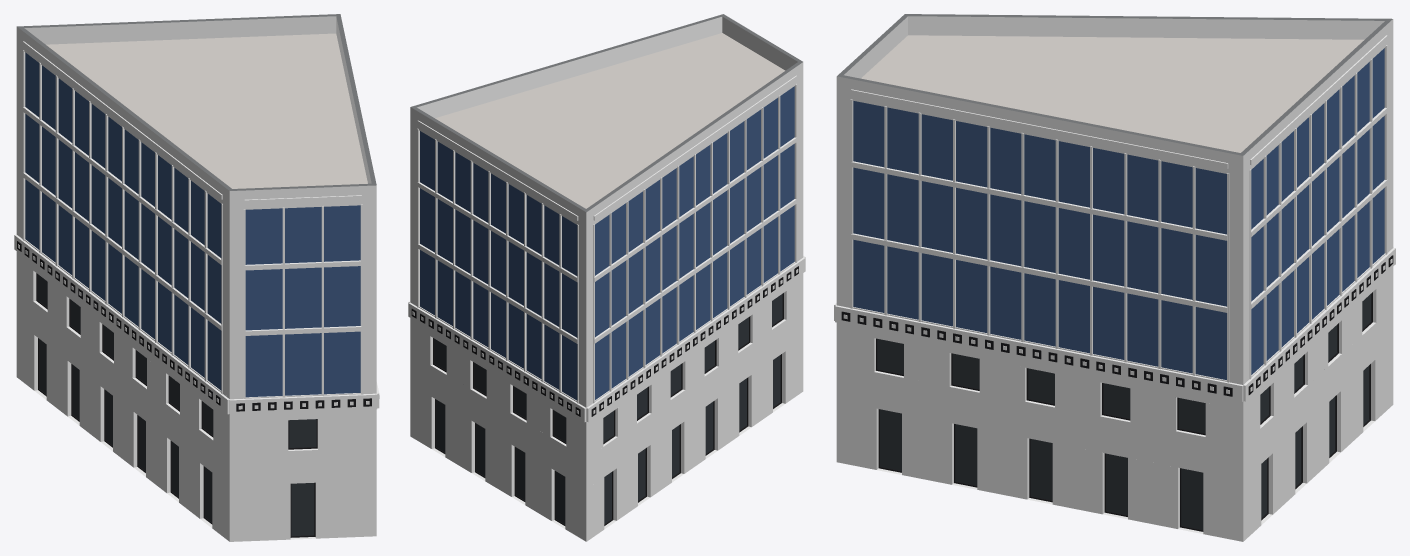
Rendered from goal532.glb.
The picture shows the model from 3 angles, left to right: view 1: azimuth 30°, elevation 25°; view 2: azimuth 150°, elevation 25°; view 3: azimuth 270°, elevation 25°; orthographic projection. The views are drawn at different scales.
Visible parts, largest first — view 1: goal532; view 2: goal532; view 3: goal532.
Boxes of the visible parts, x1=… form: goal532: x1=14, y1=14, x2=379, y2=541; goal532: x1=408, y1=14, x2=805, y2=541; goal532: x1=834, y1=14, x2=1395, y2=541.
Size of the model in its own units: 14.63 by 18.2 by 24.01.
